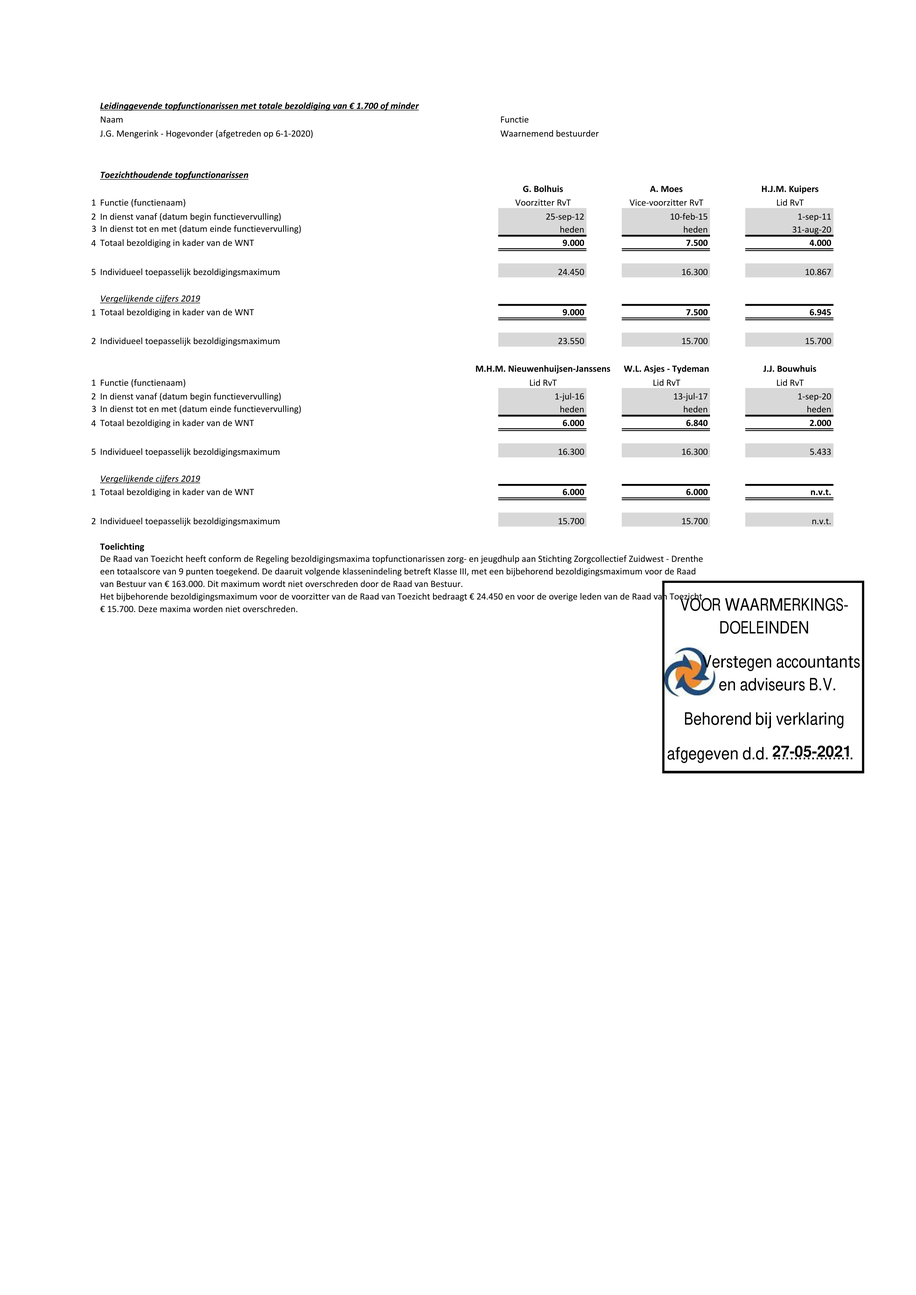coulmn: (84, 191, 321, 536), (474, 176, 612, 537), (613, 180, 729, 535), (741, 181, 840, 533)
